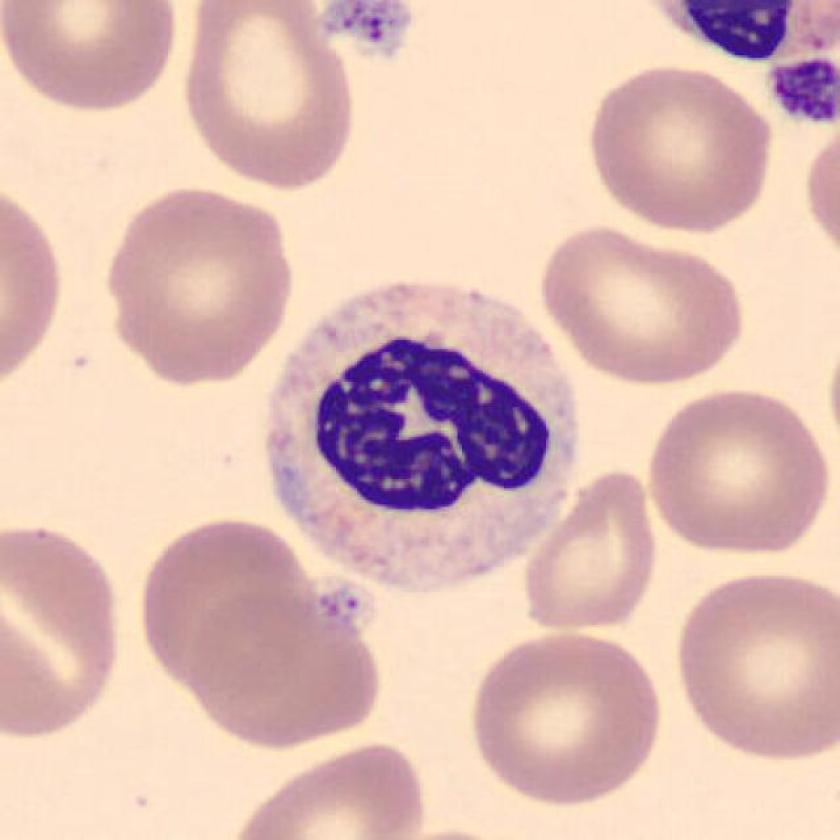neutrophil: (268, 281, 583, 594)
